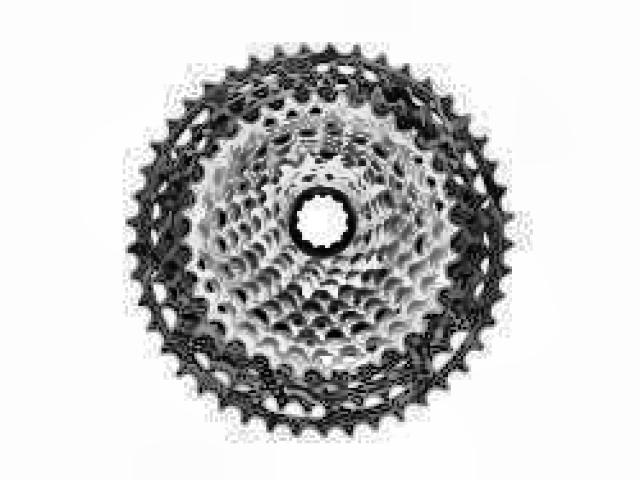cassette: (125, 39, 515, 442)
